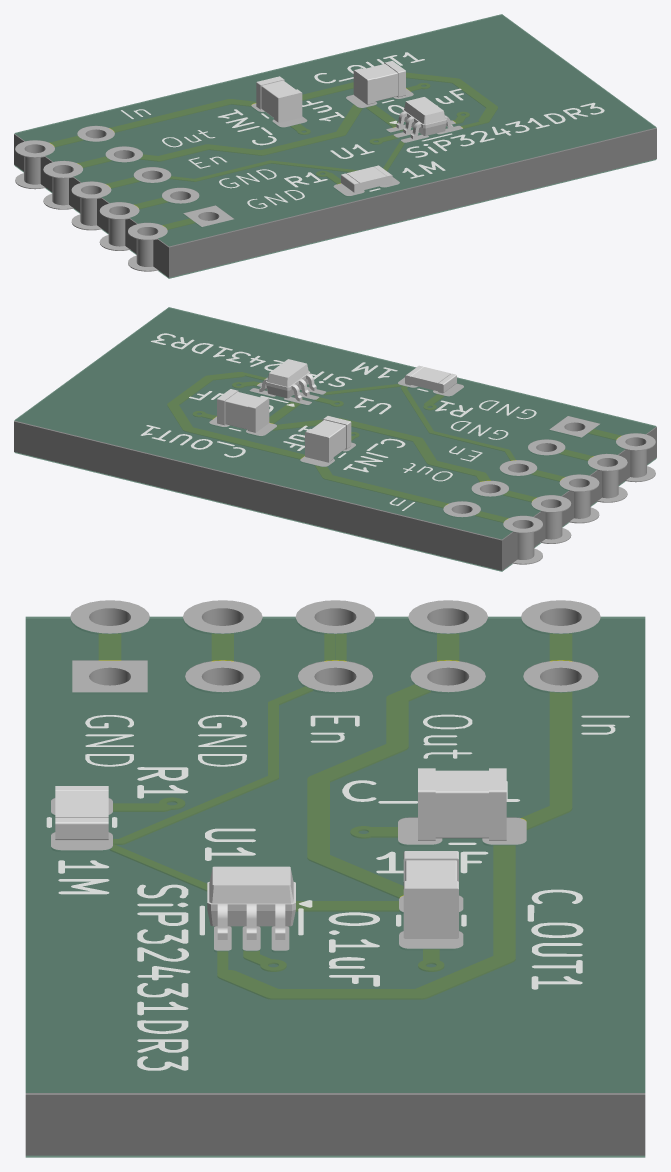
The model's file is load_switch.glb.
The picture shows the model from 3 angles, top to bottom: view 1: azimuth 30°, elevation 25°; view 2: azimuth 150°, elevation 25°; view 3: azimuth 270°, elevation 25°; orthographic projection. The views are drawn at different scales.
Parts seen in each view (by area): view 1: =>[0:1:1:12], =>[0:1:1:10], =>[0:1:1:6], =>[0:1:1:5], =>[0:1:1:8], C_OUT1, C_IN1, U1, R1, =>[0:1:1:11]; view 2: =>[0:1:1:12], =>[0:1:1:10], =>[0:1:1:6], =>[0:1:1:5], =>[0:1:1:8], C_OUT1, C_IN1, U1, R1, =>[0:1:1:11]; view 3: =>[0:1:1:12], =>[0:1:1:10], =>[0:1:1:6], =>[0:1:1:5], =>[0:1:1:8], C_IN1, U1, C_OUT1, R1, =>[0:1:1:11].
Part boxes in pixels (bbox=[...]): =>[0:1:1:12]: bbox=[14, 16, 656, 277]; =>[0:1:1:10]: bbox=[14, 14, 656, 246]; =>[0:1:1:6]: bbox=[15, 88, 462, 271]; =>[0:1:1:5]: bbox=[50, 73, 497, 229]; =>[0:1:1:8]: bbox=[121, 52, 604, 208]; C_OUT1: bbox=[353, 61, 405, 104]; C_IN1: bbox=[256, 76, 302, 122]; U1: bbox=[396, 97, 453, 139]; R1: bbox=[341, 165, 392, 192]; =>[0:1:1:11]: bbox=[14, 159, 656, 278]; =>[0:1:1:12]: bbox=[14, 309, 656, 570]; =>[0:1:1:10]: bbox=[14, 307, 656, 539]; =>[0:1:1:6]: bbox=[209, 377, 655, 564]; =>[0:1:1:5]: bbox=[168, 372, 620, 522]; =>[0:1:1:8]: bbox=[140, 333, 536, 510]; C_OUT1: bbox=[217, 389, 269, 432]; C_IN1: bbox=[305, 416, 351, 462]; U1: bbox=[259, 359, 316, 401]; R1: bbox=[405, 365, 456, 393]; =>[0:1:1:11]: bbox=[14, 452, 656, 571]; =>[0:1:1:12]: bbox=[25, 619, 645, 1155]; =>[0:1:1:10]: bbox=[25, 616, 645, 1092]; =>[0:1:1:6]: bbox=[51, 600, 600, 951]; =>[0:1:1:5]: bbox=[99, 634, 572, 998]; =>[0:1:1:8]: bbox=[46, 714, 629, 1070]; C_IN1: bbox=[418, 768, 506, 840]; U1: bbox=[207, 866, 295, 939]; C_OUT1: bbox=[403, 851, 458, 938]; R1: bbox=[55, 786, 108, 840]; =>[0:1:1:11]: bbox=[25, 1155, 645, 1157].
Size of the model in its own units: 0.0263 by 0.00292 by 0.014.
